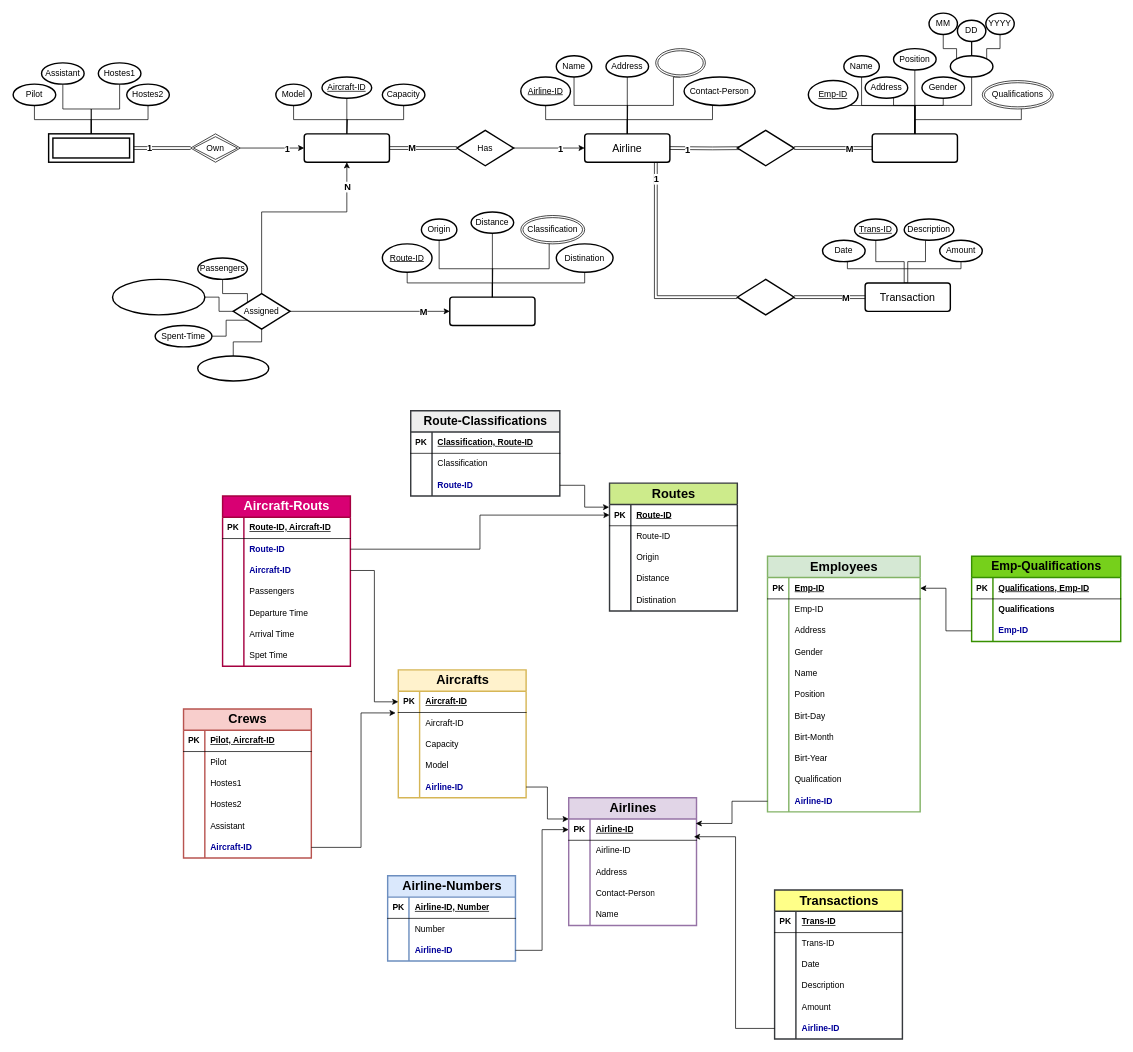
The diagram is 1133 pixels wide and 1052 high, and some of its shapes have lost their labels. The shapes that lost their labels are listed below. From the top down, each one's centre as x and y in pixels, then its label:
At (x=680, y=62): "Numbers".
At (x=971, y=66): "Birthday".
At (x=91, y=148): "Crew".
At (x=346, y=148): "Aircraft".
At (x=765, y=147): "Works In".
At (x=914, y=148): "Employee".
At (x=158, y=296): "departure date-time".
At (x=492, y=311): "Route".
At (x=765, y=296): "Record".
At (x=233, y=368): "Arrival date-time".
